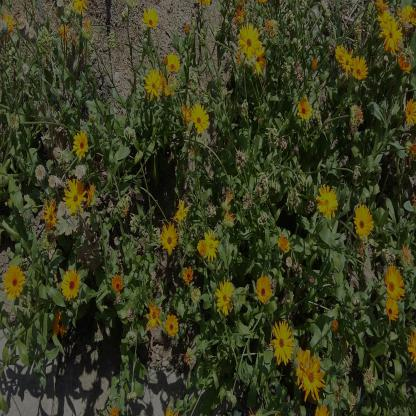marigold: (270, 318, 294, 364), (302, 353, 324, 401), (238, 23, 262, 59), (384, 264, 405, 304), (316, 184, 339, 220), (380, 17, 403, 52), (65, 178, 87, 214), (4, 265, 26, 301), (214, 280, 236, 316), (294, 346, 312, 387), (353, 203, 374, 238), (144, 299, 164, 335), (142, 67, 164, 99), (160, 222, 180, 256), (189, 103, 210, 134), (203, 228, 221, 263), (62, 269, 82, 297), (72, 128, 89, 160), (51, 308, 69, 338), (256, 274, 272, 307), (142, 5, 160, 32), (250, 45, 266, 73), (352, 55, 368, 83), (384, 295, 400, 321), (297, 96, 313, 122), (340, 49, 354, 76), (165, 52, 181, 75), (401, 2, 416, 26), (165, 313, 179, 338), (110, 272, 124, 296), (404, 99, 415, 126), (335, 44, 346, 65), (197, 238, 208, 258)
